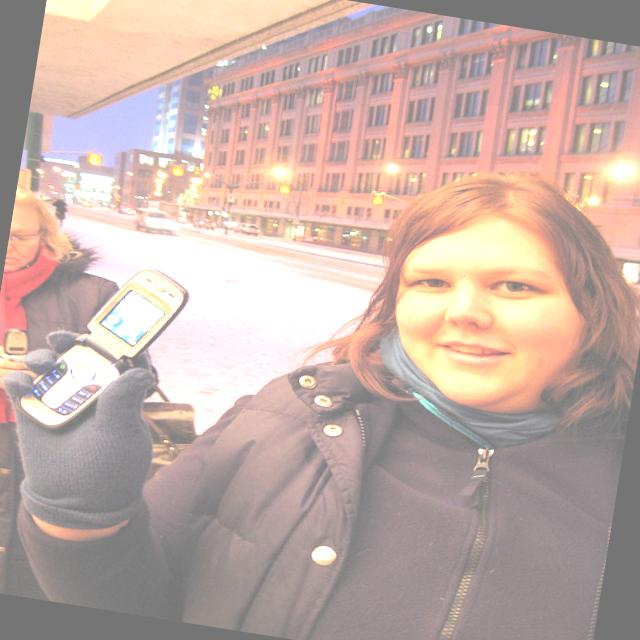Vehicle: (130, 206, 180, 237), (234, 222, 262, 238), (192, 218, 218, 232), (117, 207, 135, 216), (81, 200, 93, 208)
